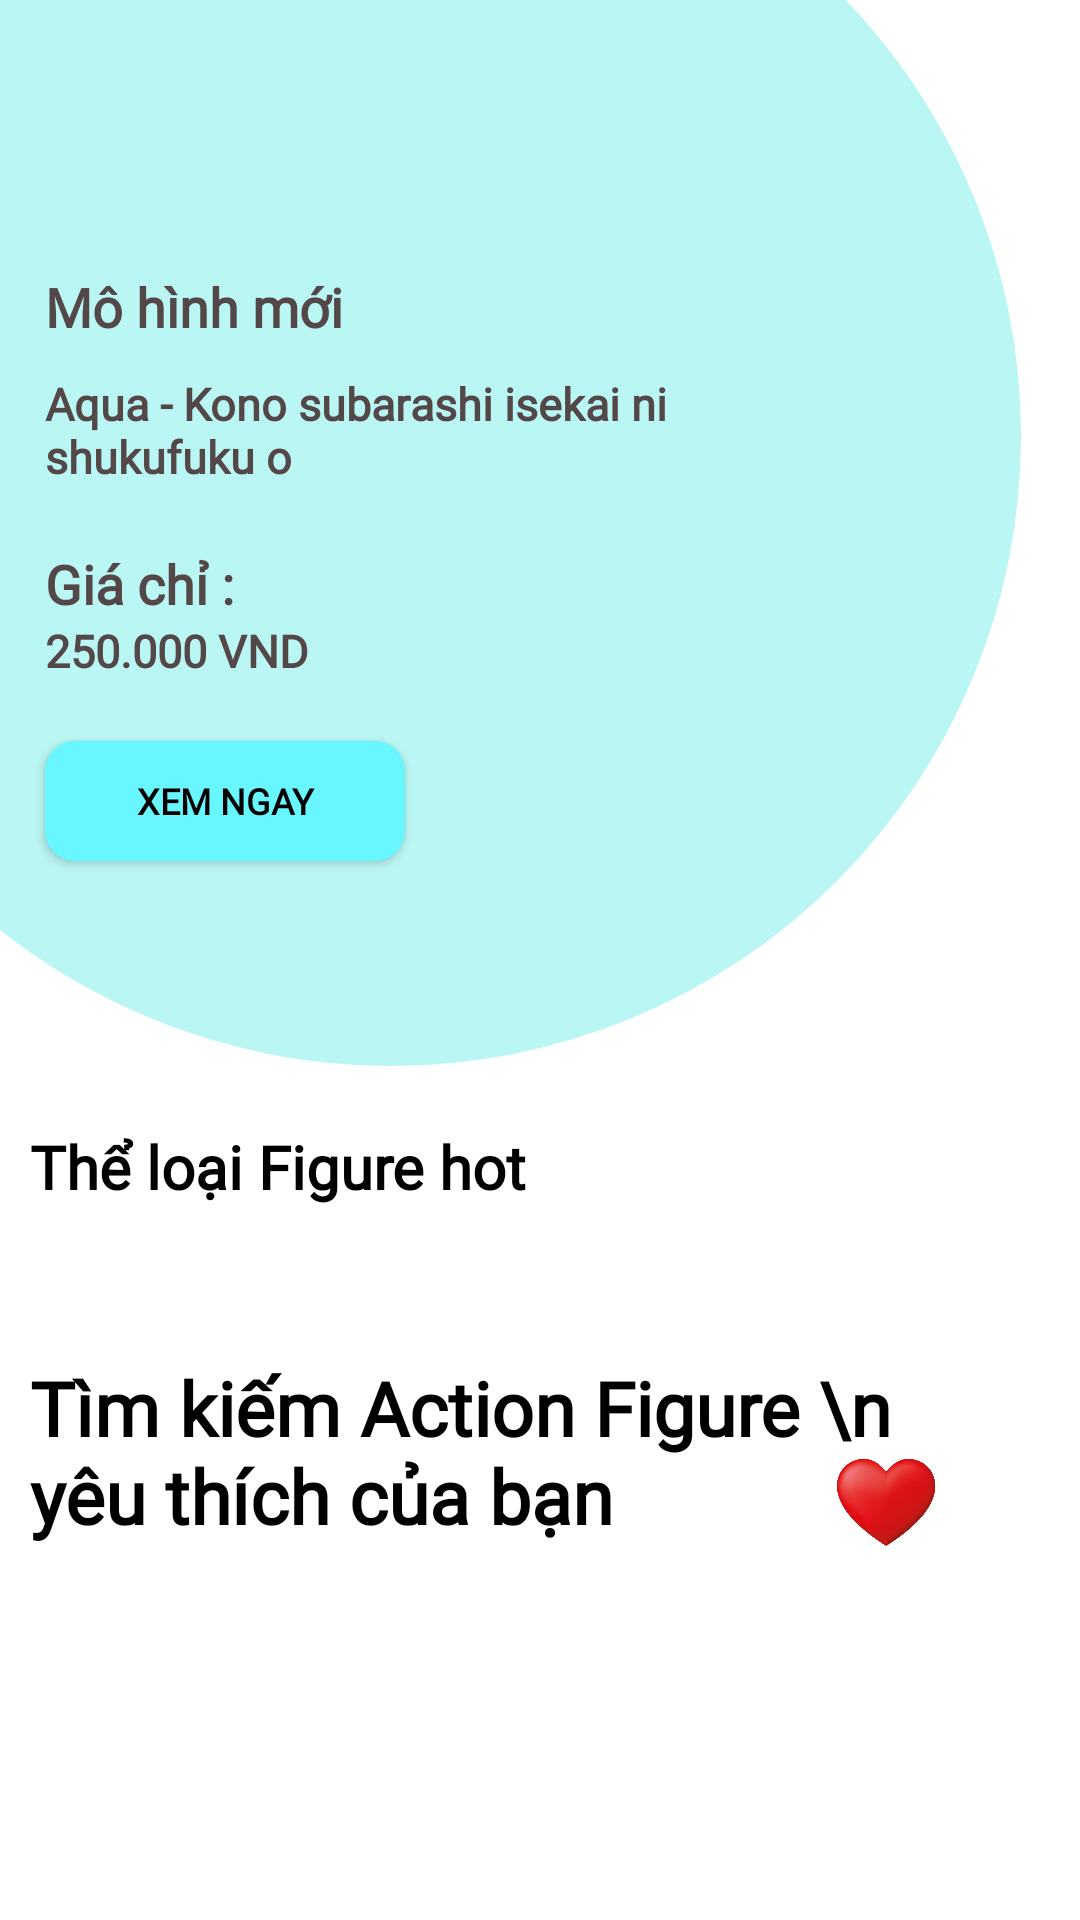

Icon bounding boxes for this 1080*1920 phone screenshot, format rect(x1, y1, x2, y2):
heart: rect(837, 1459, 935, 1546)
